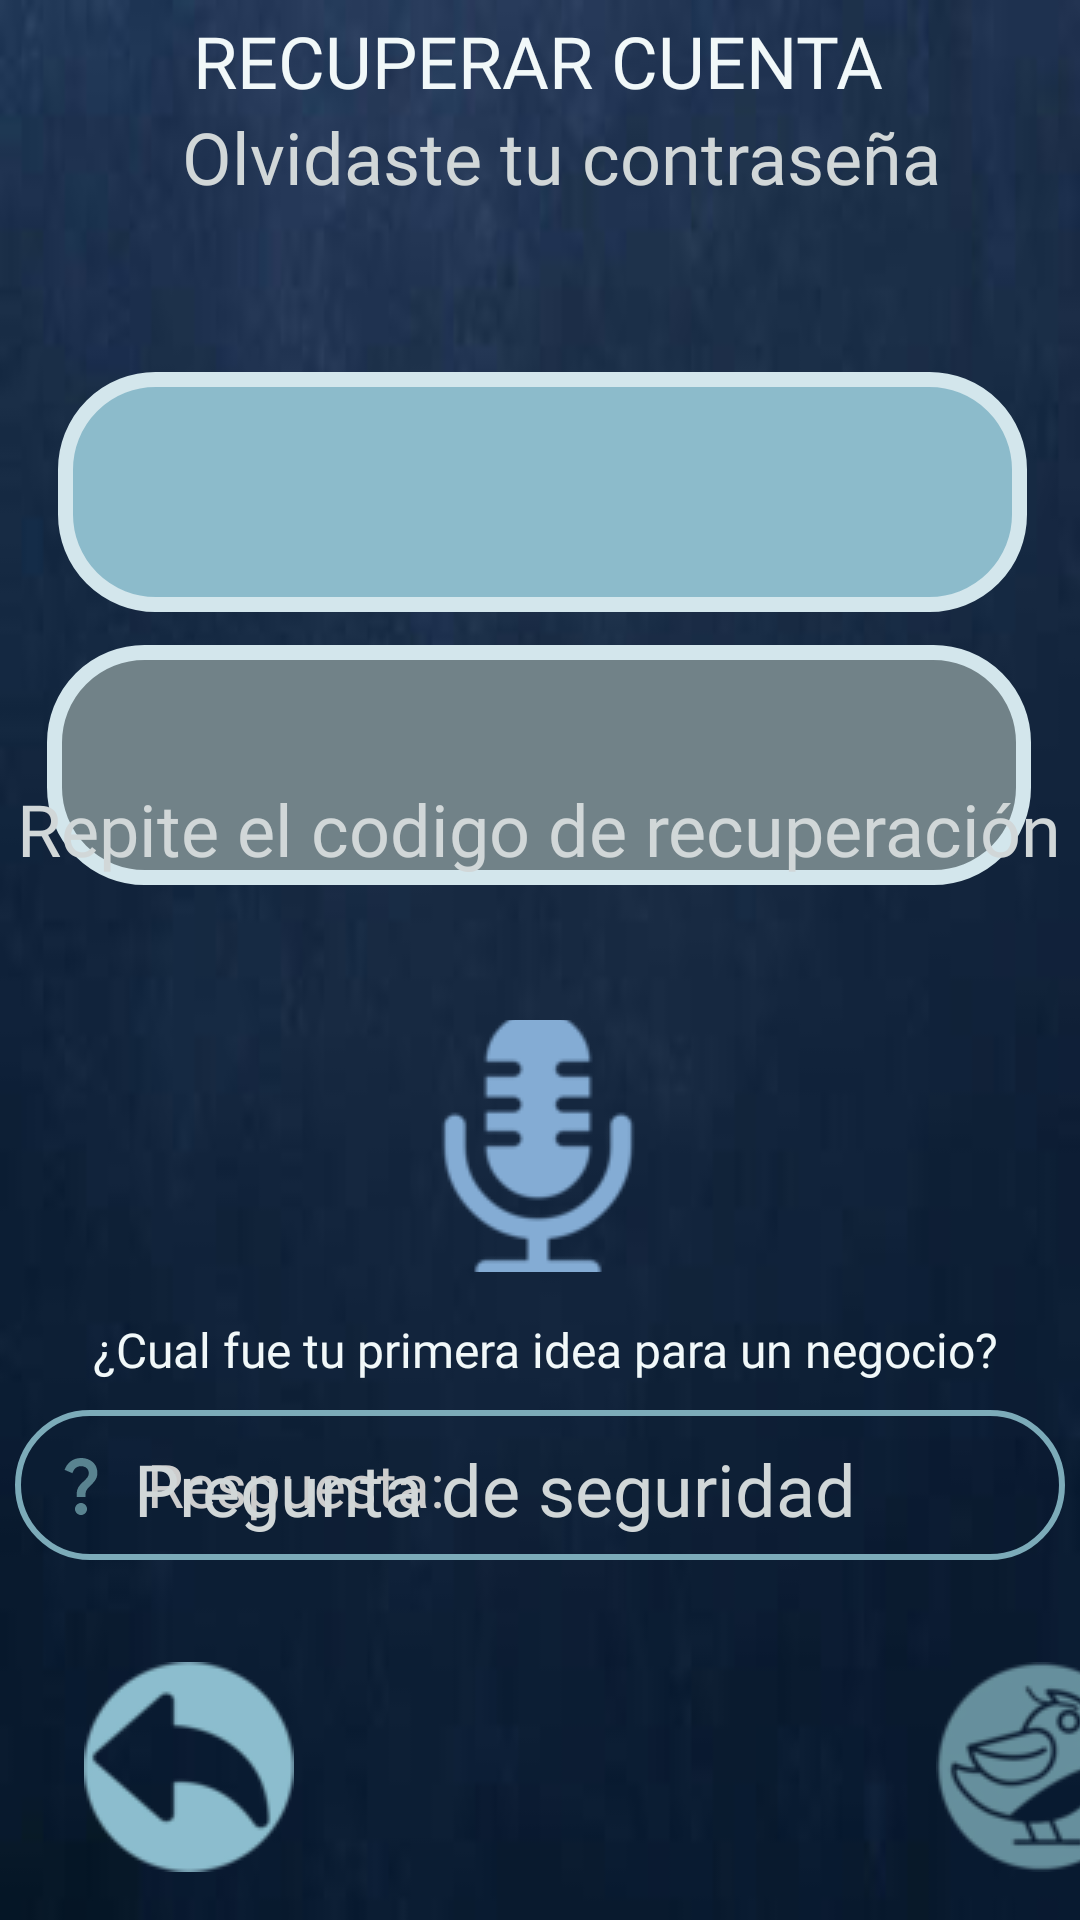

Icons on this 1080 x 1920 Android screen, each with the point to tap as (x,y):
micro: (538,1146)
